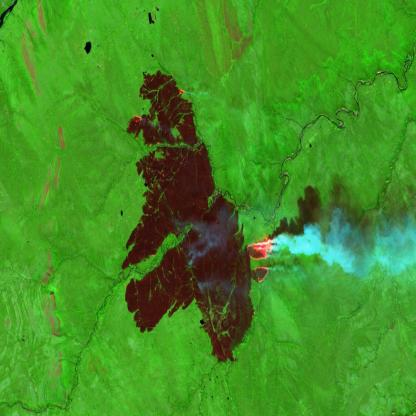fire: (243, 225, 278, 288)
